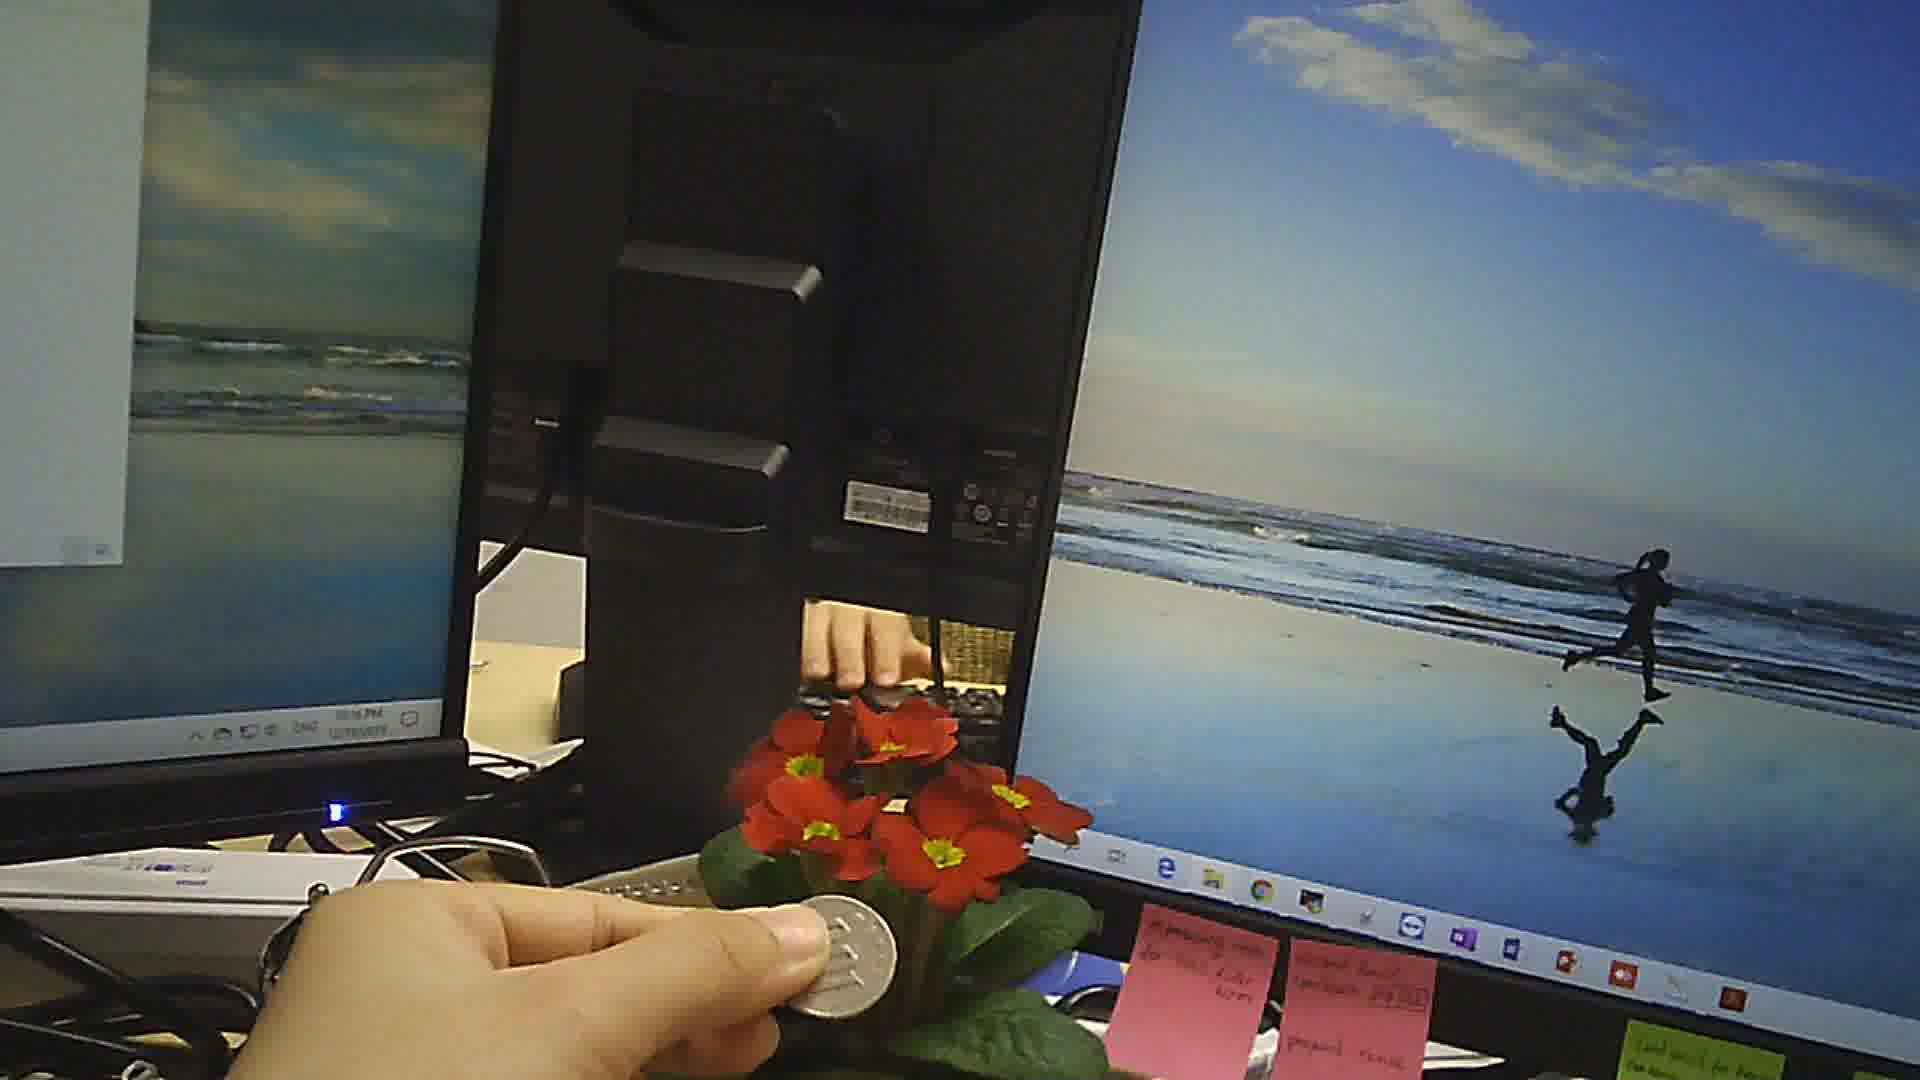100 Yen: (771, 890, 897, 1013)
